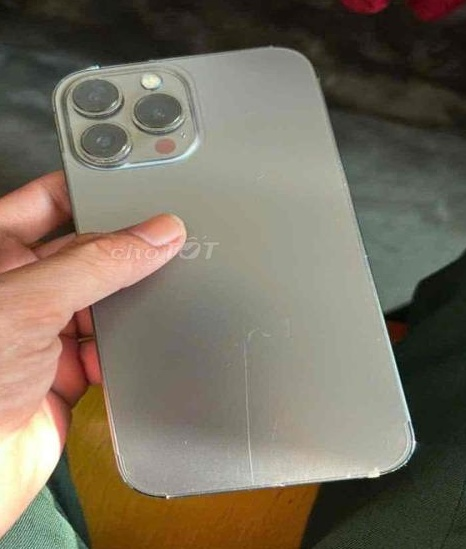scratch: (212, 299, 338, 497)
